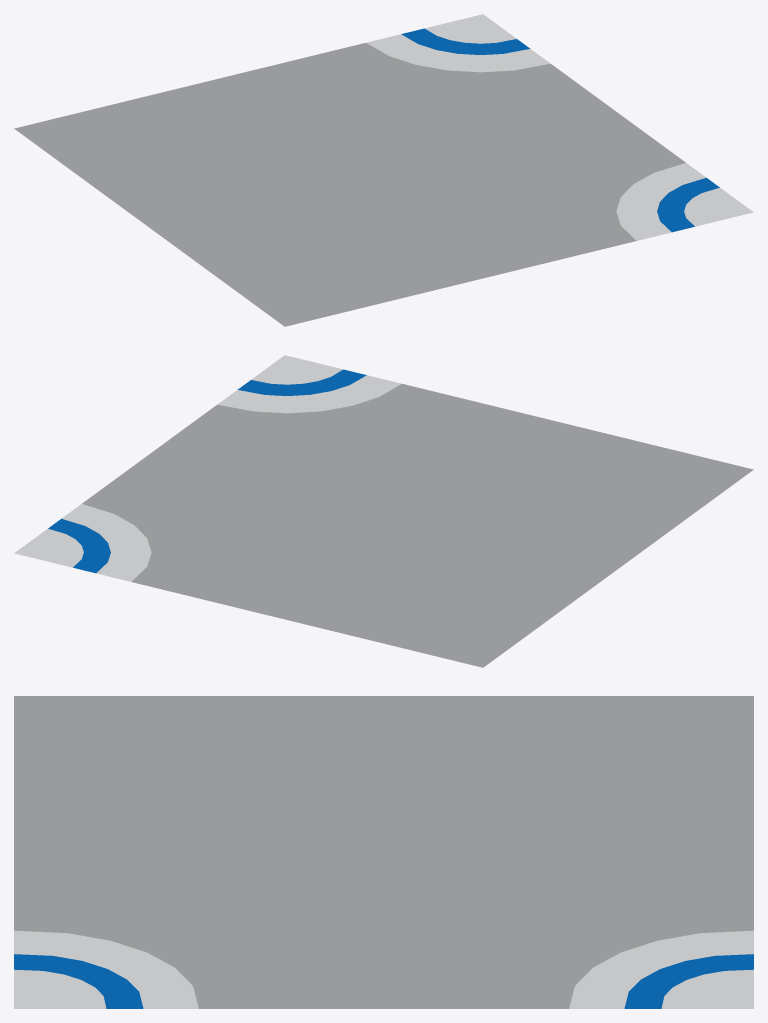
File: Ceiling_type_A_038.fbx
3 views of the same model, one above another, from view 1: azimuth 30°, elevation 25°; view 2: azimuth 150°, elevation 25°; view 3: azimuth 270°, elevation 25° (orthographic). The views are drawn at different scales.
Visible parts, largest first — view 1: Ceiling_type_A_038; view 2: Ceiling_type_A_038; view 3: Ceiling_type_A_038.
Boxes of the visible parts, box(x1,y1,x2,y2) form: Ceiling_type_A_038: box(14, 14, 753, 326); Ceiling_type_A_038: box(14, 355, 753, 667); Ceiling_type_A_038: box(14, 696, 753, 1008).
Size of the model in its own units: 400 by 400 by 1.2.
